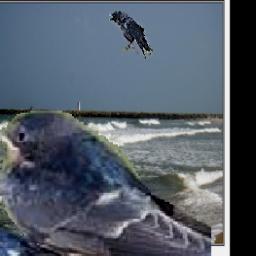Crow: (109, 11, 154, 60)
Swallow: (0, 108, 210, 256)
